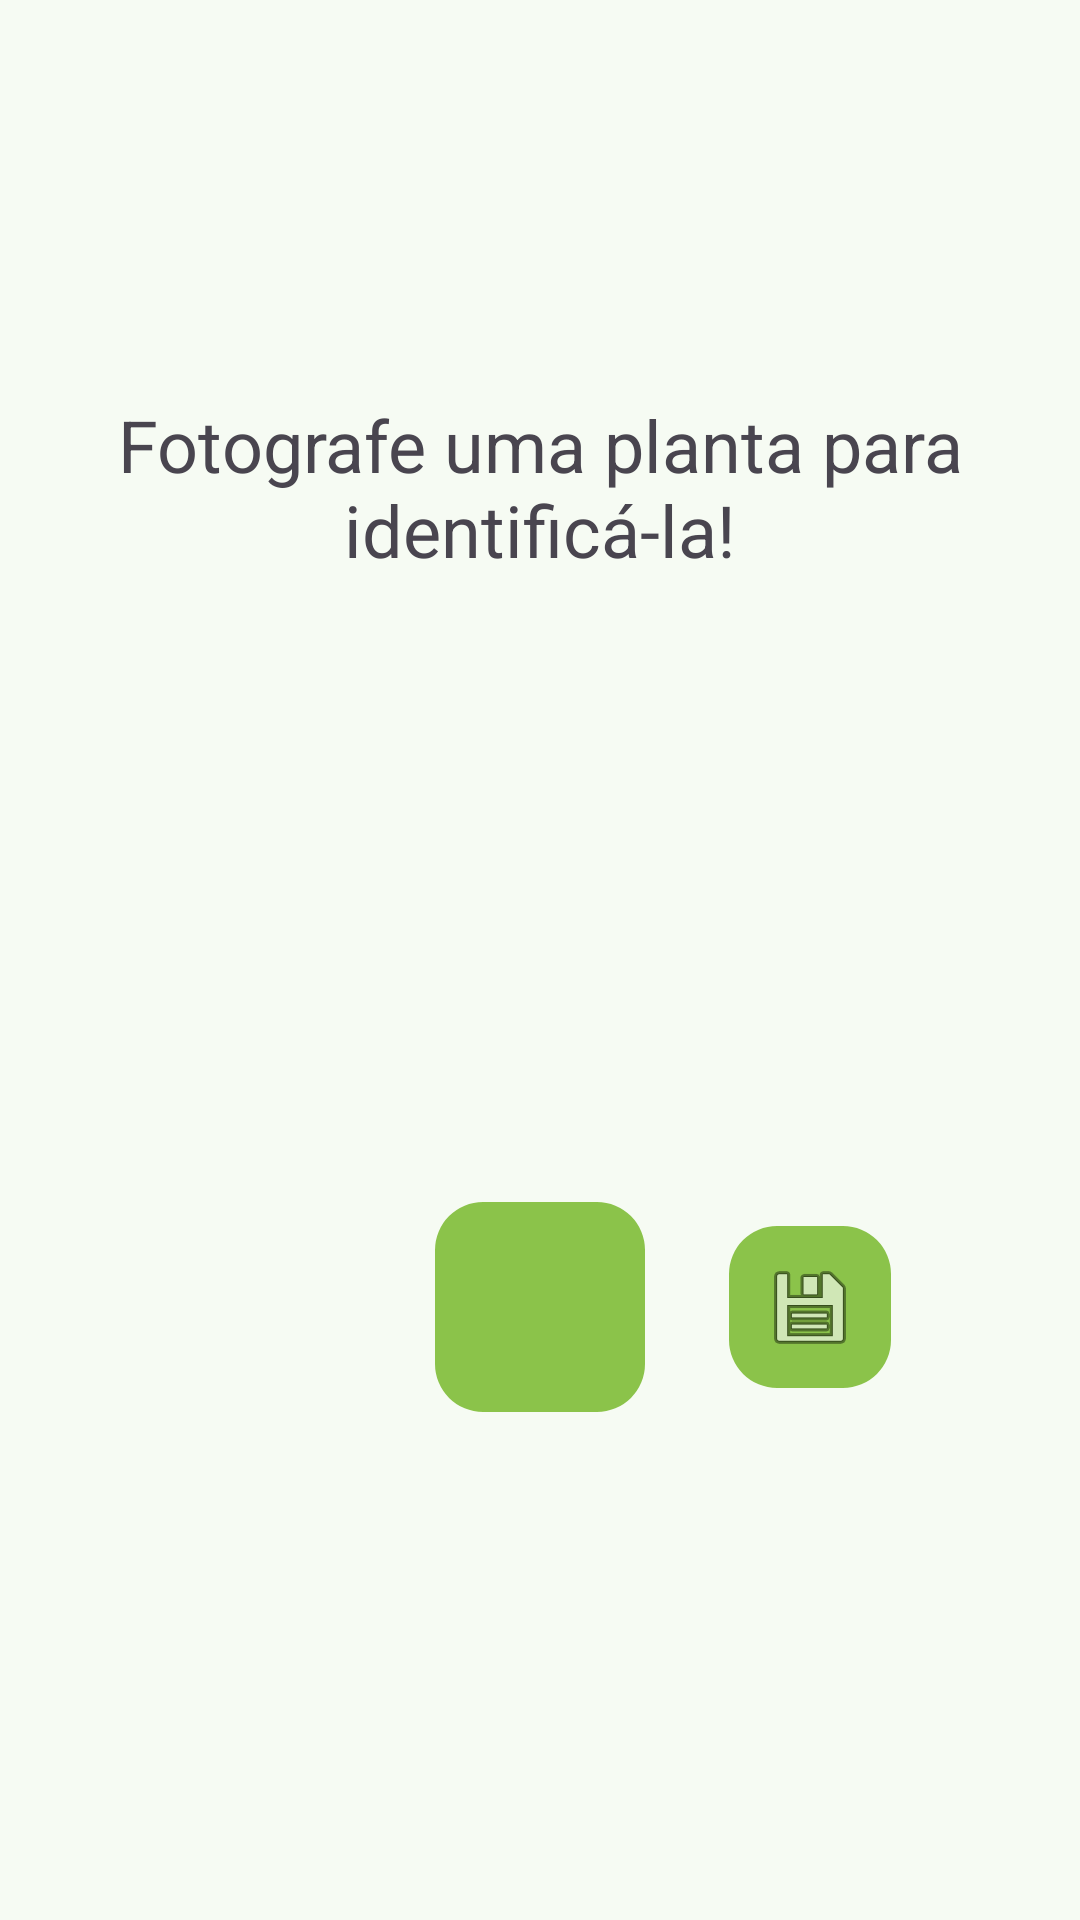

Locate icon controls on the screen. Image size 1080px x 1920px, boxes as detection(x1, y1, x2, y2).
save: detection(729, 1226, 891, 1388)
